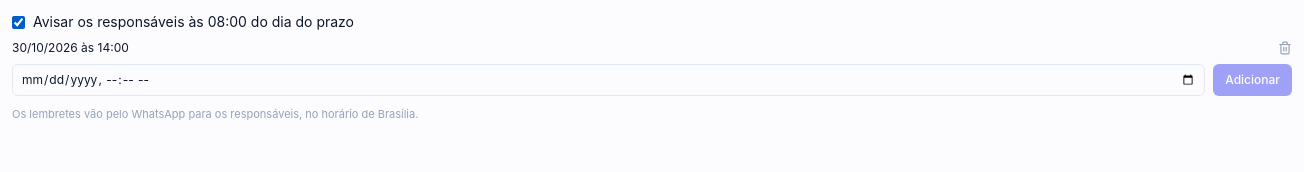
Test: adicionar grava o horário de Brasília em UTC e quem criou
Expected: the text "30/10/2026 às 14:00" is shown, [12,40,129,56]
Type "2026-10-31T09:30" into the field named "Novo lembrete" at (609, 80), box [12,64,1205,96]
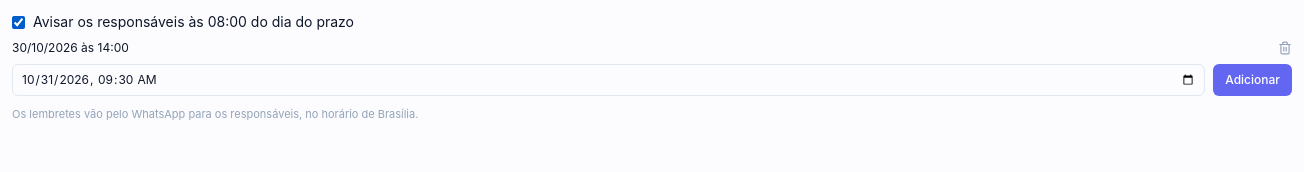
Click the button "Adicionar" at (1253, 80), box [1213,64,1292,96]
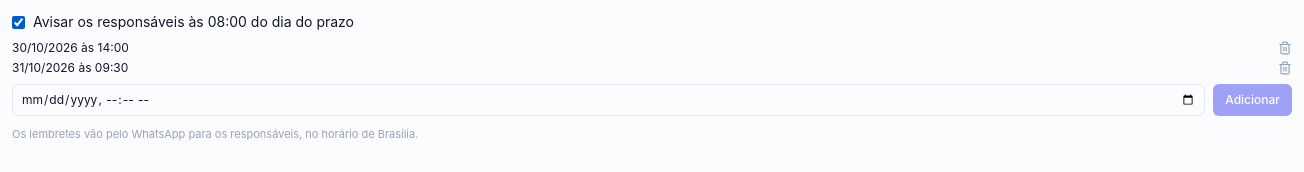
Expected: the text "31/10/2026 às 09:30" is shown, [12,60,128,76]
